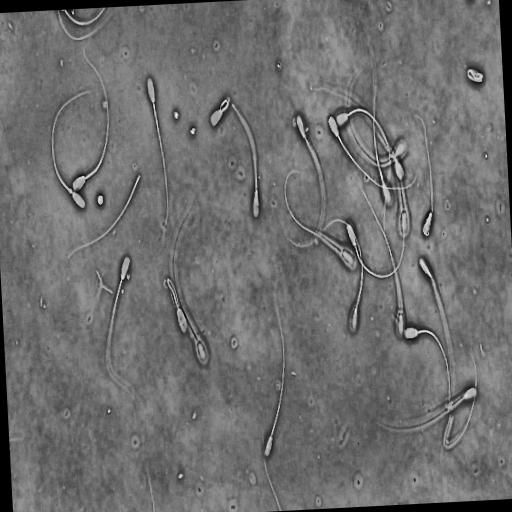coiled-tail: (167, 278, 179, 308), (467, 68, 483, 82), (220, 99, 228, 111)
dirt-particles: (96, 192, 105, 207), (189, 126, 196, 138), (173, 108, 179, 121)
folded-tail: (415, 115, 433, 236)
loose-tail: (64, 168, 143, 264), (443, 350, 479, 452), (259, 423, 283, 510)
normal: (282, 215, 365, 334), (357, 179, 408, 343), (282, 165, 359, 272), (333, 105, 393, 236), (326, 111, 419, 192), (169, 185, 209, 367), (344, 59, 408, 170), (282, 108, 327, 252), (71, 45, 112, 194), (104, 252, 143, 407), (402, 323, 452, 439), (343, 193, 406, 284), (375, 382, 481, 435), (50, 88, 94, 212), (262, 273, 288, 462), (144, 73, 171, 243), (230, 98, 261, 219), (414, 110, 434, 239), (162, 274, 191, 335), (207, 93, 232, 128), (464, 62, 486, 87)
proximal-droplet: (69, 188, 73, 194)
